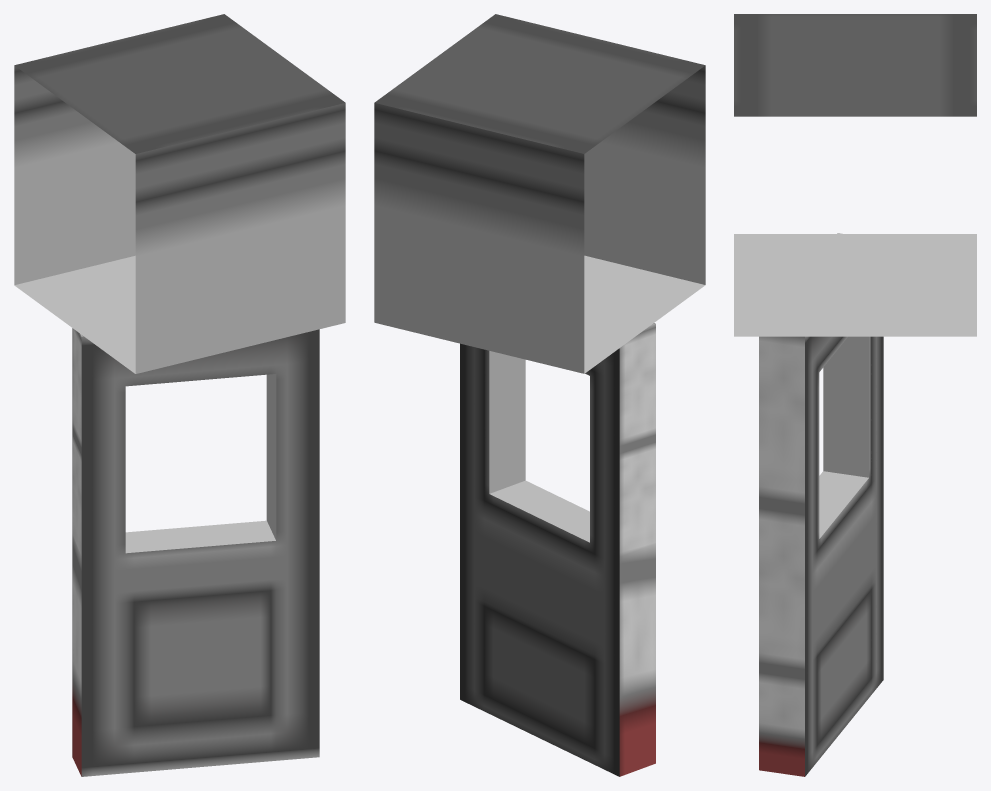
The model's file is Door_openness_1.fbx.
3 views of the same model, side by side, from view 1: azimuth 30°, elevation 25°; view 2: azimuth 150°, elevation 25°; view 3: azimuth 270°, elevation 25° (orthographic).
Parts seen in each view (by area): view 1: Door_1; view 2: Door_1; view 3: Door_1.
Boxes of the visible parts, x1=… form: Door_1: x1=14, y1=14, x2=345, y2=776; Door_1: x1=374, y1=14, x2=705, y2=776; Door_1: x1=734, y1=14, x2=976, y2=776.
Size of the model in its own units: 101 by 300 by 100.
